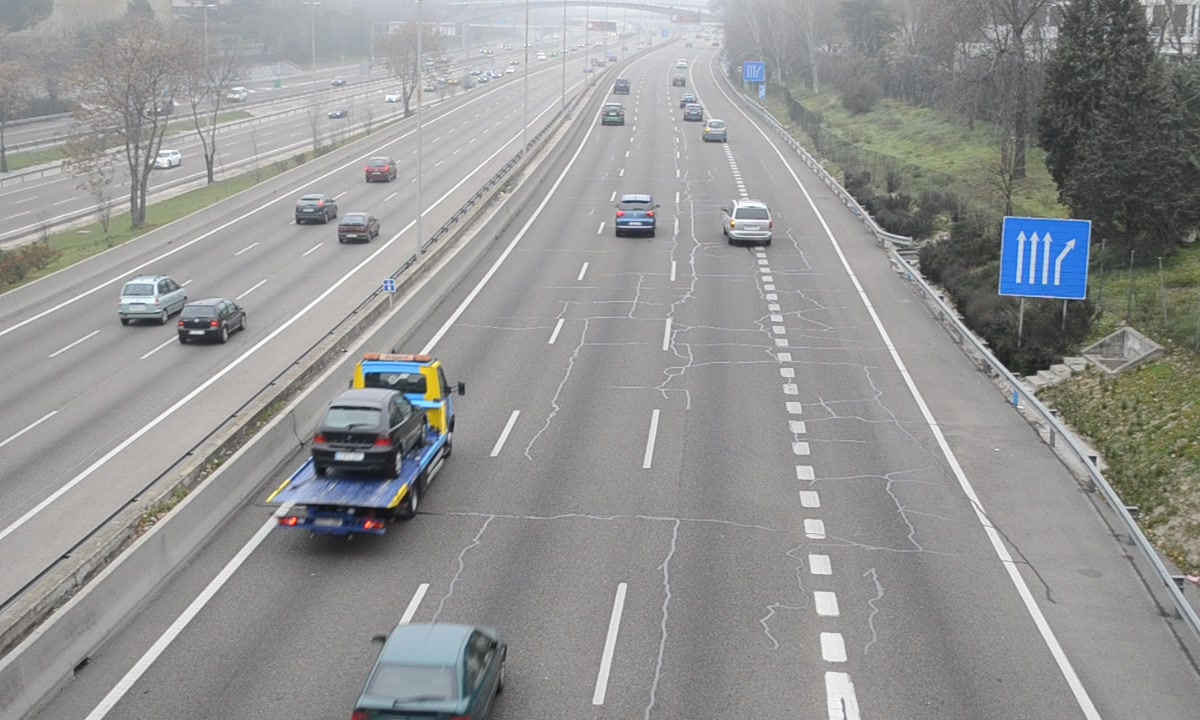car: (357, 623, 507, 718), (725, 199, 774, 246), (614, 193, 657, 234), (701, 117, 728, 142), (601, 102, 625, 127)
small-truck: (262, 351, 454, 534)
